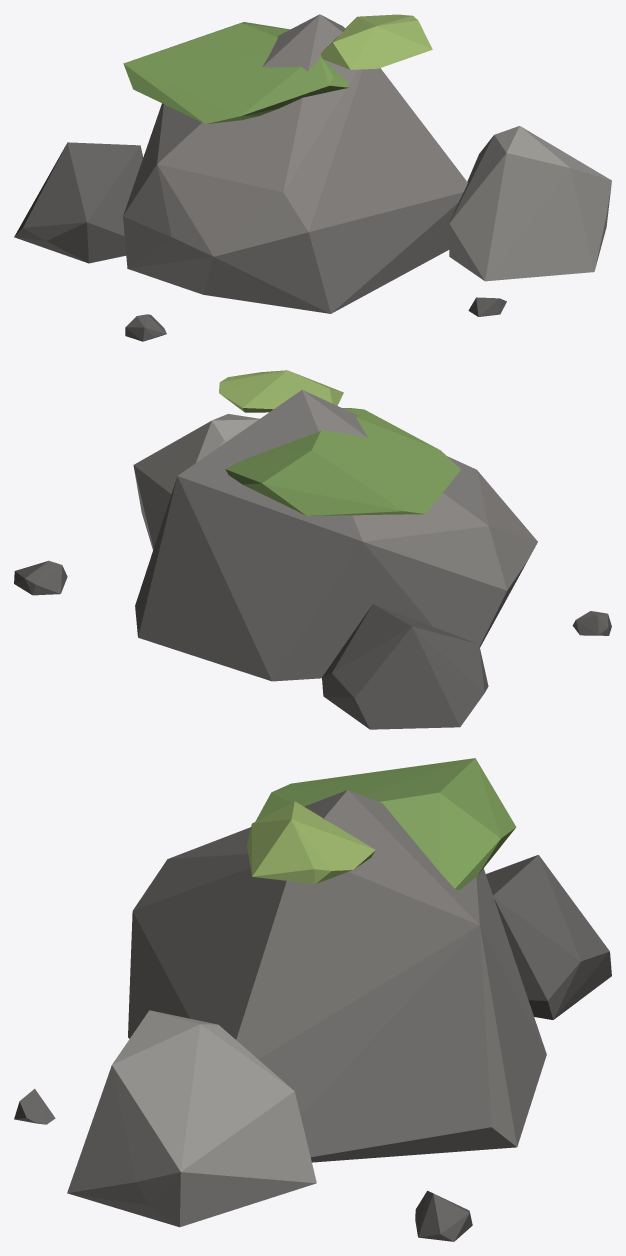
Rendered from rock.glb.
3 renders of one model, top to bottom at view 1: azimuth 30°, elevation 25°; view 2: azimuth 150°, elevation 25°; view 3: azimuth 270°, elevation 25°, orthographic. The views are drawn at different scales.
Parts seen in each view (by area): view 1: Rock; view 2: Rock; view 3: Rock.
Part boxes in pixels (box(x1,y1,x2,y2)): Rock: box(14, 14, 611, 341); Rock: box(14, 370, 611, 729); Rock: box(14, 758, 611, 1241).
Bounding box in the file's own units: 1.87 × 0.7963 × 1.47.
